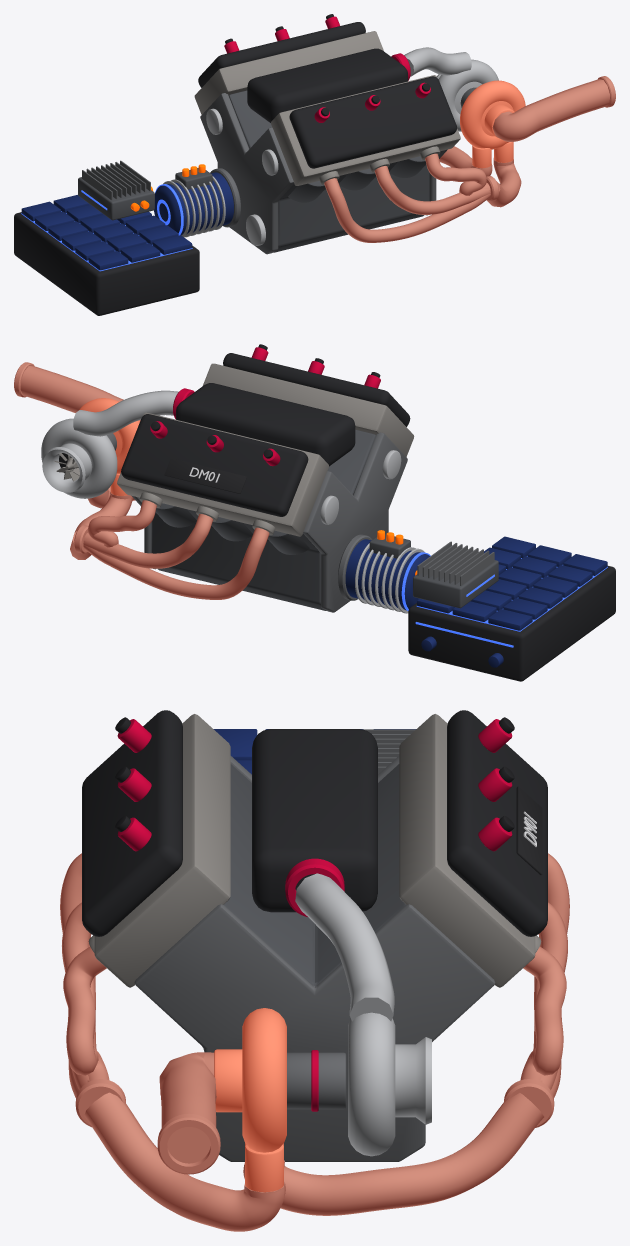
The picture shows the model from 3 angles, top to bottom: view 1: azimuth 30°, elevation 25°; view 2: azimuth 150°, elevation 25°; view 3: azimuth 270°, elevation 25°; orthographic projection. The views are drawn at different scales.
Visible parts, largest first — view 1: dm01_v6, dm01_bateria, dm01_v6_cabecote_esq, dm01_turbo, dm01_v6_coletor_esq, dm01_v6_cabecote_dir, dm01_mgu_k, dm01_eletronica, dm01_v6_coletor_dir; view 2: dm01_v6, dm01_bateria, dm01_v6_cabecote_dir, dm01_turbo, dm01_v6_cabecote_esq, dm01_v6_coletor_dir, dm01_mgu_k, dm01_eletronica; view 3: dm01_v6, dm01_turbo, dm01_v6_cabecote_dir, dm01_v6_cabecote_esq, dm01_v6_coletor_dir, dm01_v6_coletor_esq, dm01_bateria, dm01_eletronica.
Part boxes in pixels (x1,y1,x2,y2): dm01_v6: (200,48,447,254); dm01_bateria: (14,195,199,315); dm01_v6_cabecote_esq: (271,75,460,185); dm01_turbo: (404,47,615,168); dm01_v6_coletor_esq: (324,153,521,242); dm01_v6_cabecote_dir: (194,14,383,114); dm01_mgu_k: (154,164,240,237); dm01_eletronica: (78,160,154,220); dm01_v6_coletor_dir: (439,146,492,176); dm01_v6: (131,383,407,612); dm01_bateria: (408,536,615,681); dm01_v6_cabecote_dir: (117,412,328,536); dm01_turbo: (14,362,178,498); dm01_v6_cabecote_esq: (203,344,414,456); dm01_v6_coletor_dir: (70,491,269,599); dm01_mgu_k: (338,530,430,613); dm01_eletronica: (413,541,498,608); dm01_v6: (134,729,495,1161); dm01_turbo: (157,873,431,1192); dm01_v6_cabecote_dir: (399,710,547,987); dm01_v6_cabecote_esq: (82,710,230,987); dm01_v6_coletor_dir: (243,853,569,1215); dm01_v6_coletor_esq: (60,853,285,1231); dm01_bateria: (213,729,416,774); dm01_eletronica: (362,729,415,774).
Bounding box in the file's own units: 1.91 × 0.5581 × 0.8097.
